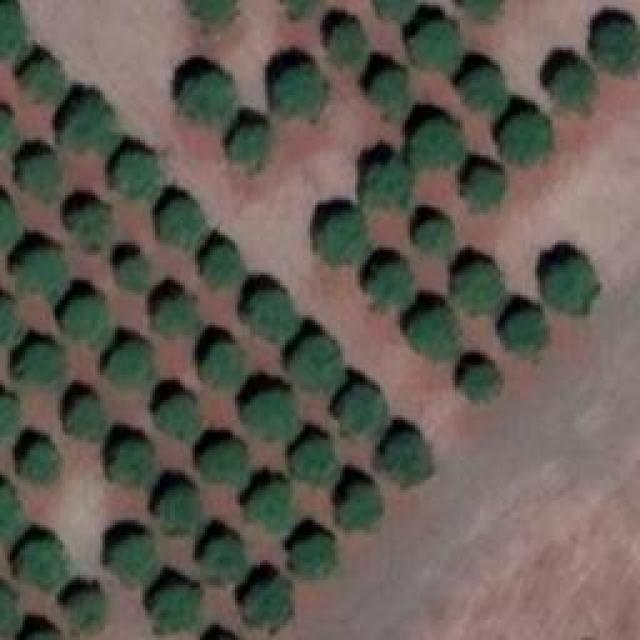Tree: (447, 255, 505, 315), (243, 283, 298, 338), (540, 258, 595, 313), (60, 190, 110, 250), (173, 73, 233, 123), (500, 110, 553, 165), (458, 65, 513, 118), (65, 90, 115, 148), (270, 60, 323, 113), (10, 50, 60, 105), (13, 235, 63, 288), (315, 213, 365, 266), (360, 160, 413, 210), (405, 118, 458, 168), (408, 20, 461, 70), (295, 333, 343, 388), (243, 572, 288, 630), (595, 22, 640, 80), (157, 193, 205, 246), (150, 583, 198, 636), (200, 432, 253, 480), (200, 340, 248, 393), (15, 535, 65, 585), (288, 528, 338, 578), (550, 60, 600, 110), (112, 148, 160, 198), (65, 385, 105, 445), (365, 68, 413, 118), (338, 475, 383, 528), (410, 305, 458, 353), (367, 260, 415, 308), (248, 390, 293, 440), (338, 380, 383, 430), (153, 287, 198, 335), (158, 485, 201, 535), (205, 533, 248, 583), (385, 433, 428, 483), (18, 340, 61, 388), (155, 393, 203, 436), (15, 148, 60, 191), (228, 120, 271, 165), (60, 297, 100, 345), (112, 440, 150, 490), (115, 533, 155, 578), (508, 308, 548, 353), (248, 480, 288, 523), (293, 435, 336, 475), (20, 435, 55, 483), (107, 338, 145, 381), (330, 20, 368, 63), (198, 240, 238, 280), (65, 588, 105, 628), (413, 215, 453, 253), (465, 168, 503, 208), (465, 358, 498, 401), (0, 0, 25, 55), (0, 575, 20, 638), (182, 0, 232, 22), (0, 180, 18, 240), (118, 255, 148, 288), (0, 393, 20, 438), (0, 483, 18, 533), (0, 102, 15, 160), (368, 0, 413, 15), (23, 625, 66, 640)
